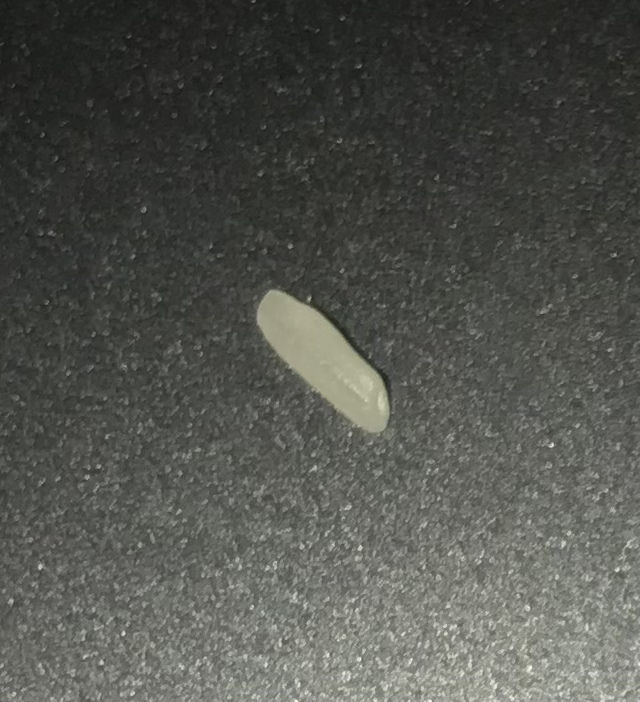Gao Tam Thom: (249, 274, 403, 448)
